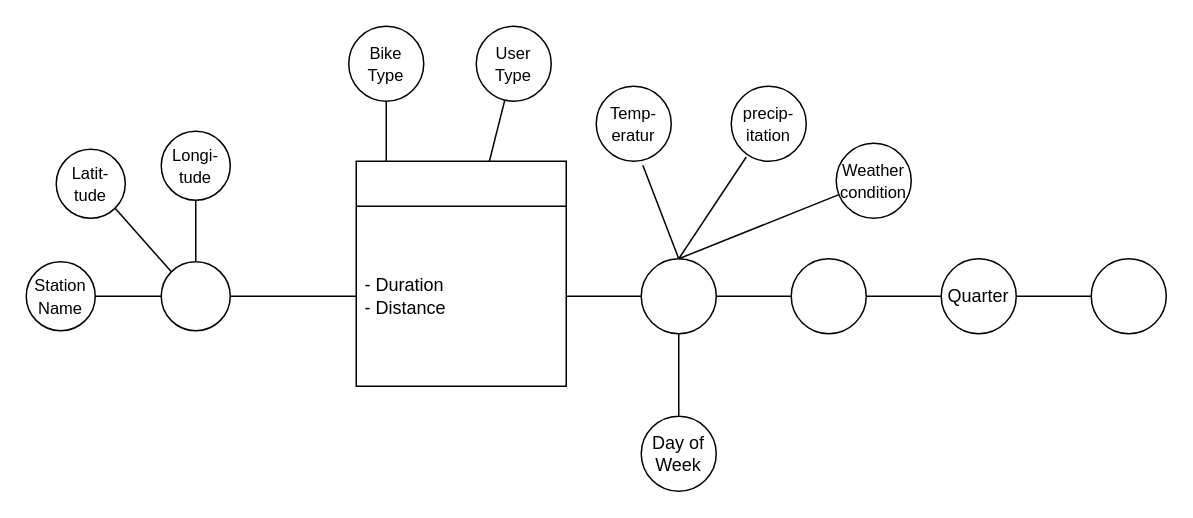
The diagram is 1193 pixels wide and 518 high, and some of its shapes have lost their labels. The shapes that lost their labels are listed below. From the top down, each one's box as (x1, y1, x2, y2) in pixels, then its label:
(355, 160, 566, 386): Bike Rides
(160, 260, 230, 331): Station ID
(640, 257, 716, 334): Date
(790, 257, 866, 334): Month
(1090, 257, 1166, 334): Year
